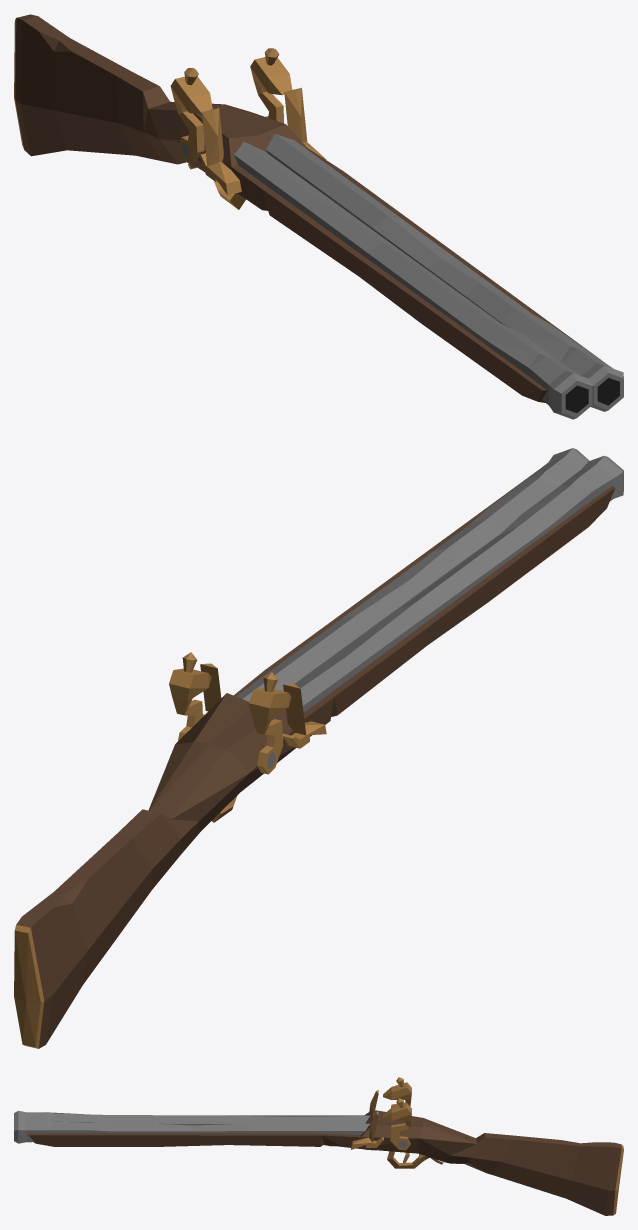
Rendered from SM_Wep_Rifle_DoubleBarrel_01.glb.
The picture shows the model from 3 angles, top to bottom: view 1: azimuth 30°, elevation 25°; view 2: azimuth 150°, elevation 25°; view 3: azimuth 270°, elevation 25°; orthographic projection. The views are drawn at different scales.
Visible parts, largest first — view 1: SM_Wep_Rifle_DoubleBarrel_01; view 2: SM_Wep_Rifle_DoubleBarrel_01; view 3: SM_Wep_Rifle_DoubleBarrel_01.
Part boxes in pixels (left/top/right/bottom): SM_Wep_Rifle_DoubleBarrel_01: left=14, top=14, right=623, bottom=419; SM_Wep_Rifle_DoubleBarrel_01: left=14, top=448, right=623, bottom=1048; SM_Wep_Rifle_DoubleBarrel_01: left=14, top=1077, right=623, bottom=1215.
Size of the model in its own units: 0.00142 by 0.00322 by 0.014.
